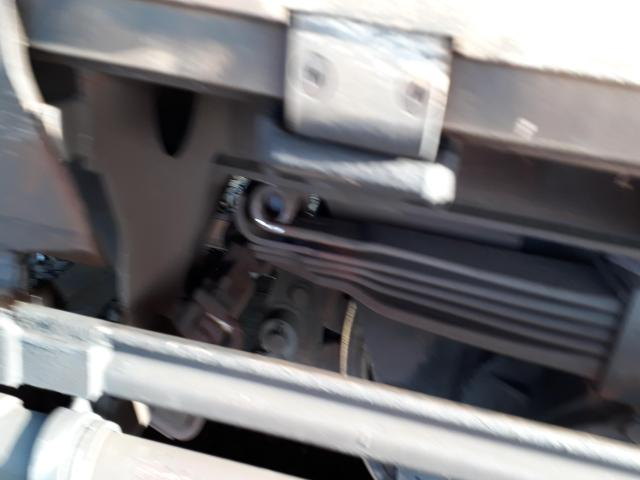blattfederww: (235, 180, 593, 369)
